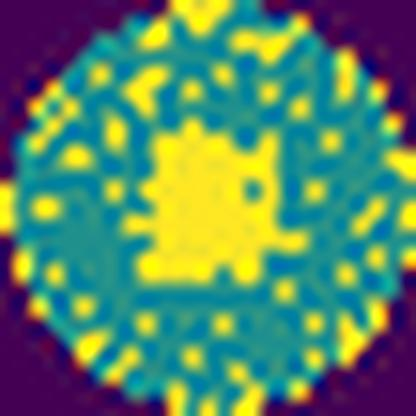Center: (122, 112, 314, 291)
